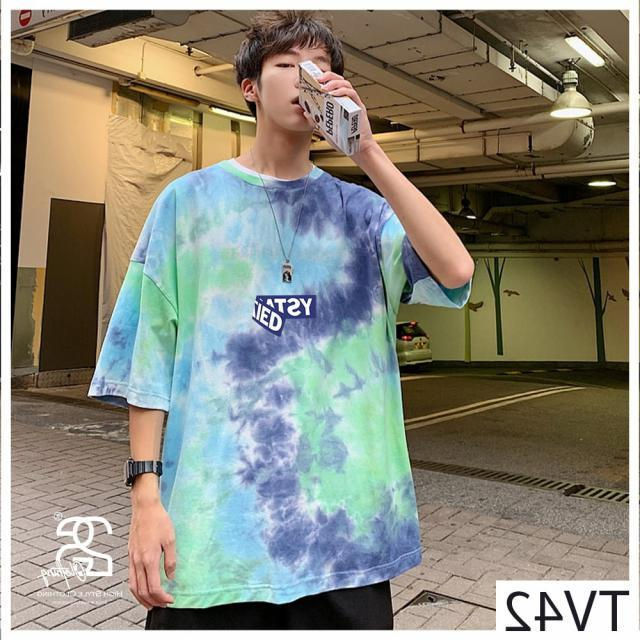short sleeve shirt: (87, 154, 478, 611)
trousers: (144, 573, 395, 640)
